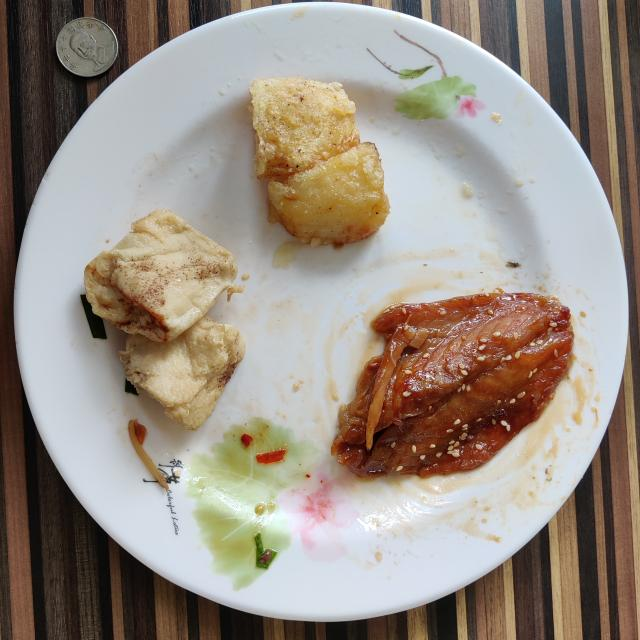Kabayaki sea bream fillet: (331, 291, 574, 478)
coin: (56, 18, 119, 76)
creamy tofu -without sauce-: (84, 210, 245, 430)
fried potato: (250, 78, 390, 246)
